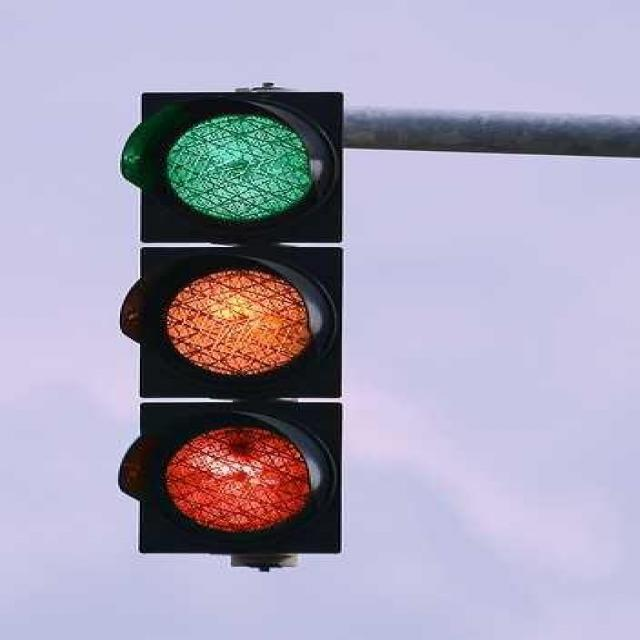red_light: (136, 92, 333, 242), (144, 253, 332, 400), (150, 410, 326, 550)
